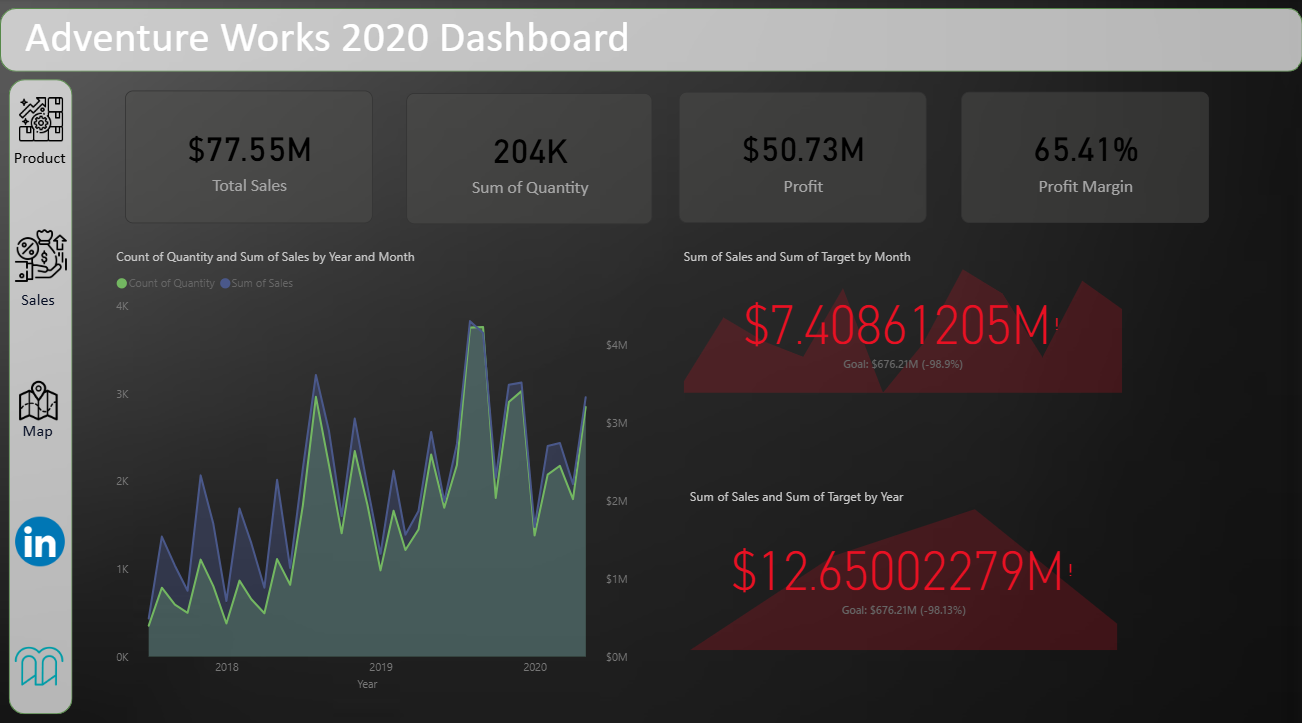

The page's visual inventory and layout, read from the dashboard file:
{"tool":"powerbi","page":{"name":"Home","canvas":[1280,720],"ordinal":0},"visuals":[{"type":"card","fields":{"Values":["Sales.Total Sales"]},"box":[122.7,90.8,242.9,130.1],"z":0},{"type":"shape","box":[0,9.8,1279.8,62.6],"z":1000},{"type":"textbox","box":[19.6,6.1,646.6,71.2],"z":2000},{"type":"card","fields":{"Values":["Sum(Sales.Quantity)"]},"box":[398.8,93.3,241.7,128.8],"z":3000},{"type":"card","fields":{"Values":["Sales.Profit"]},"box":[666.3,92,242.9,128.8],"z":4000},{"type":"card","fields":{"Values":["Sales.Profit Margin"]},"box":[943.6,92,242.9,128.8],"z":5000},{"type":"areaChart","fields":{"Y":["CountNonNull(Sales.Quantity)"],"Y2":["Sum(Sales.Sales)"],"Category":["DimDate.MonthKey.Variation.Date Hierarchy.Year","DimDate.MonthKey.Variation.Date Hierarchy.Month"]},"box":[109.2,245.4,512.9,439.3],"z":6000},{"type":"kpi","fields":{"Goal":["Sum(Targets.Target)"],"Indicator":["Sum(Sales.Sales)"],"TrendLine":["Sales.OrderDate.Variation.Date Hierarchy.Month"]},"box":[666.3,245.4,440.5,147.2],"z":7000},{"type":"kpi","fields":{"Goal":["Sum(Targets.Target)"],"Indicator":["Sum(Sales.Sales)"],"TrendLine":["Sales.OrderDate.Variation.Date Hierarchy.Year"]},"box":[672.4,481,429.5,164.4],"z":8000},{"type":"shape","box":[8.6,79.8,62.6,623.3],"z":9000},{"type":"image","box":[12.3,84.7,56.4,68.7],"z":10000},{"type":"textbox","box":[8.6,142.3,82.2,31.9],"z":11000},{"type":"image","box":[4.9,220.9,71.2,63.8],"z":12000},{"type":"textbox","box":[16,281,82.2,31.9],"z":13000},{"type":"image","box":[4.9,370.6,65,54],"z":14000},{"type":"textbox","box":[17.2,409.8,82.2,31.9],"z":15000},{"type":"image","box":[7.4,617.2,62.6,77.3],"z":16000},{"type":"image","box":[1.2,504.3,76.1,58.9],"z":17000}]}

Visuals, with their boxes in screenshot pixels (x1, y1, x2, y2), scaled from the page's 1280x720 canvas onto the 1302x723 screenshot:
card - Sales.Total Sales: [125, 91, 372, 222]
shape: [0, 10, 1301, 73]
textbox: [20, 6, 678, 78]
card - Sum(Sales.Quantity): [406, 94, 652, 223]
card - Sales.Profit: [678, 92, 925, 222]
card - Sales.Profit Margin: [960, 92, 1207, 222]
areaChart - CountNonNull(Sales.Quantity) x Sum(Sales.Sales): [111, 246, 633, 688]
kpi - Sum(Targets.Target) x Sum(Sales.Sales): [678, 246, 1126, 394]
kpi - Sum(Targets.Target) x Sum(Sales.Sales): [684, 483, 1121, 648]
shape: [9, 80, 72, 706]
image: [13, 85, 70, 154]
textbox: [9, 143, 92, 175]
image: [5, 222, 77, 286]
textbox: [16, 282, 100, 314]
image: [5, 372, 71, 426]
textbox: [17, 412, 101, 444]
image: [8, 620, 71, 697]
image: [1, 506, 79, 566]
